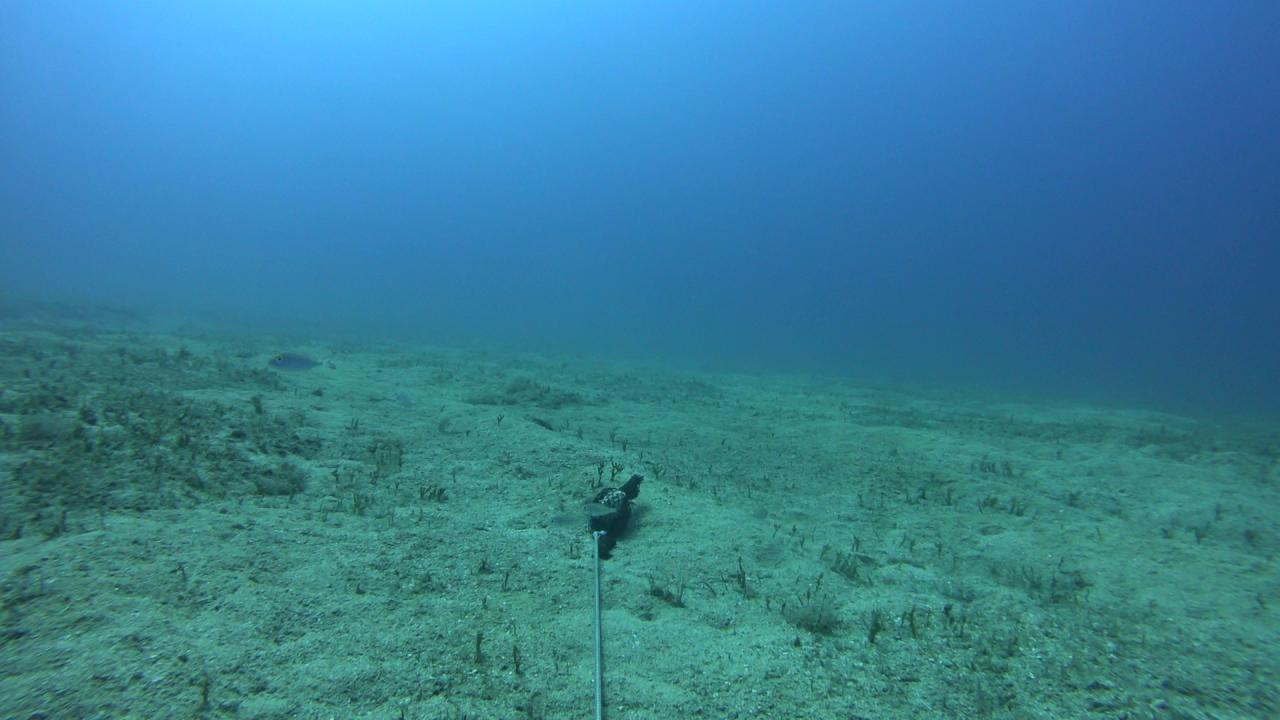pagellus: (267, 350, 337, 375), (544, 511, 597, 528), (582, 503, 619, 518)
